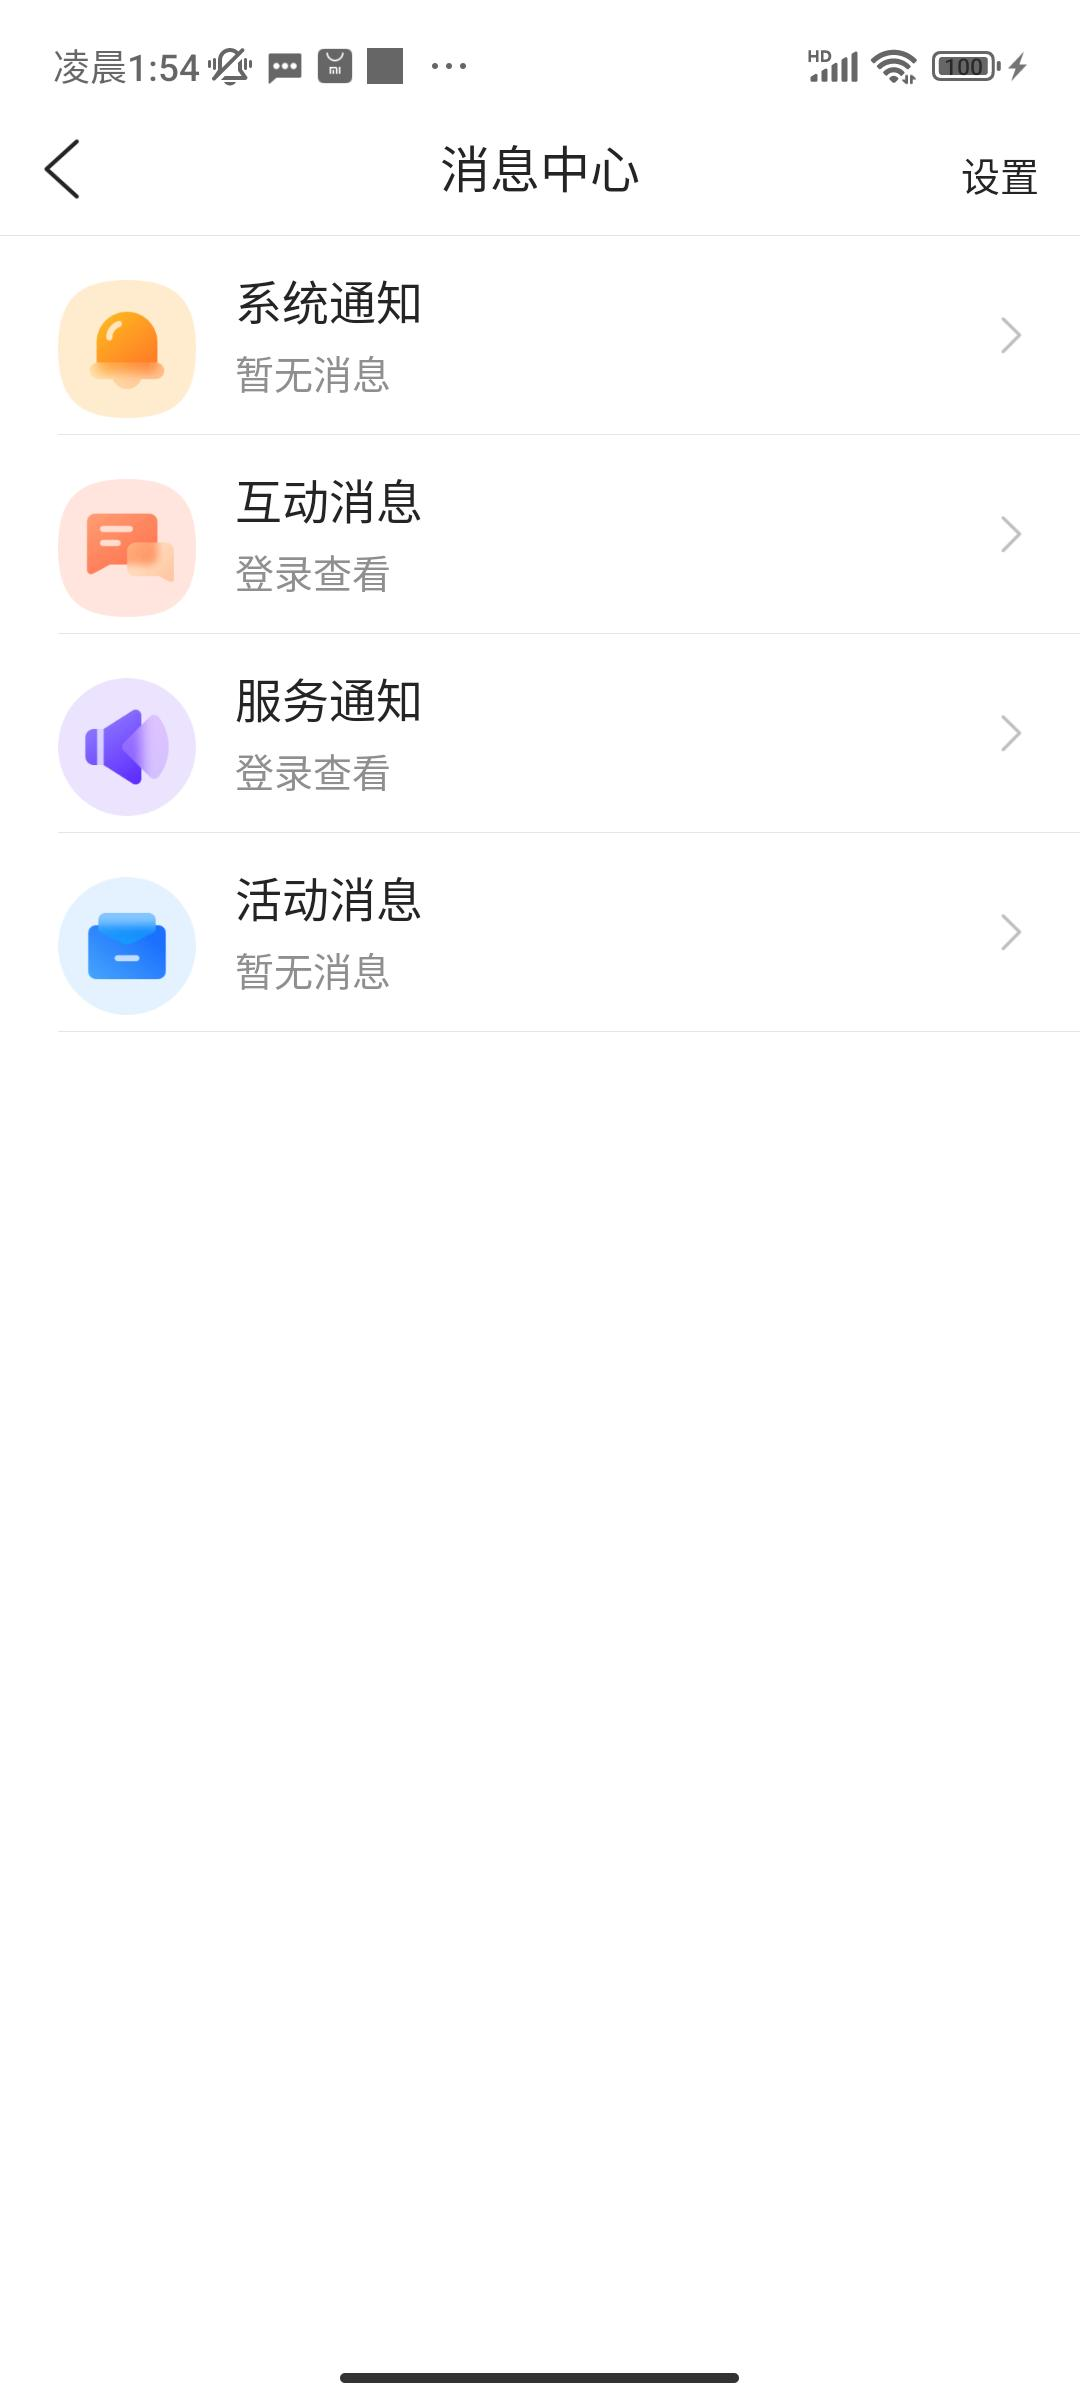ui_group: (38, 445, 1065, 632), (52, 654, 1054, 833), (44, 859, 1057, 1035), (49, 248, 1069, 412)
